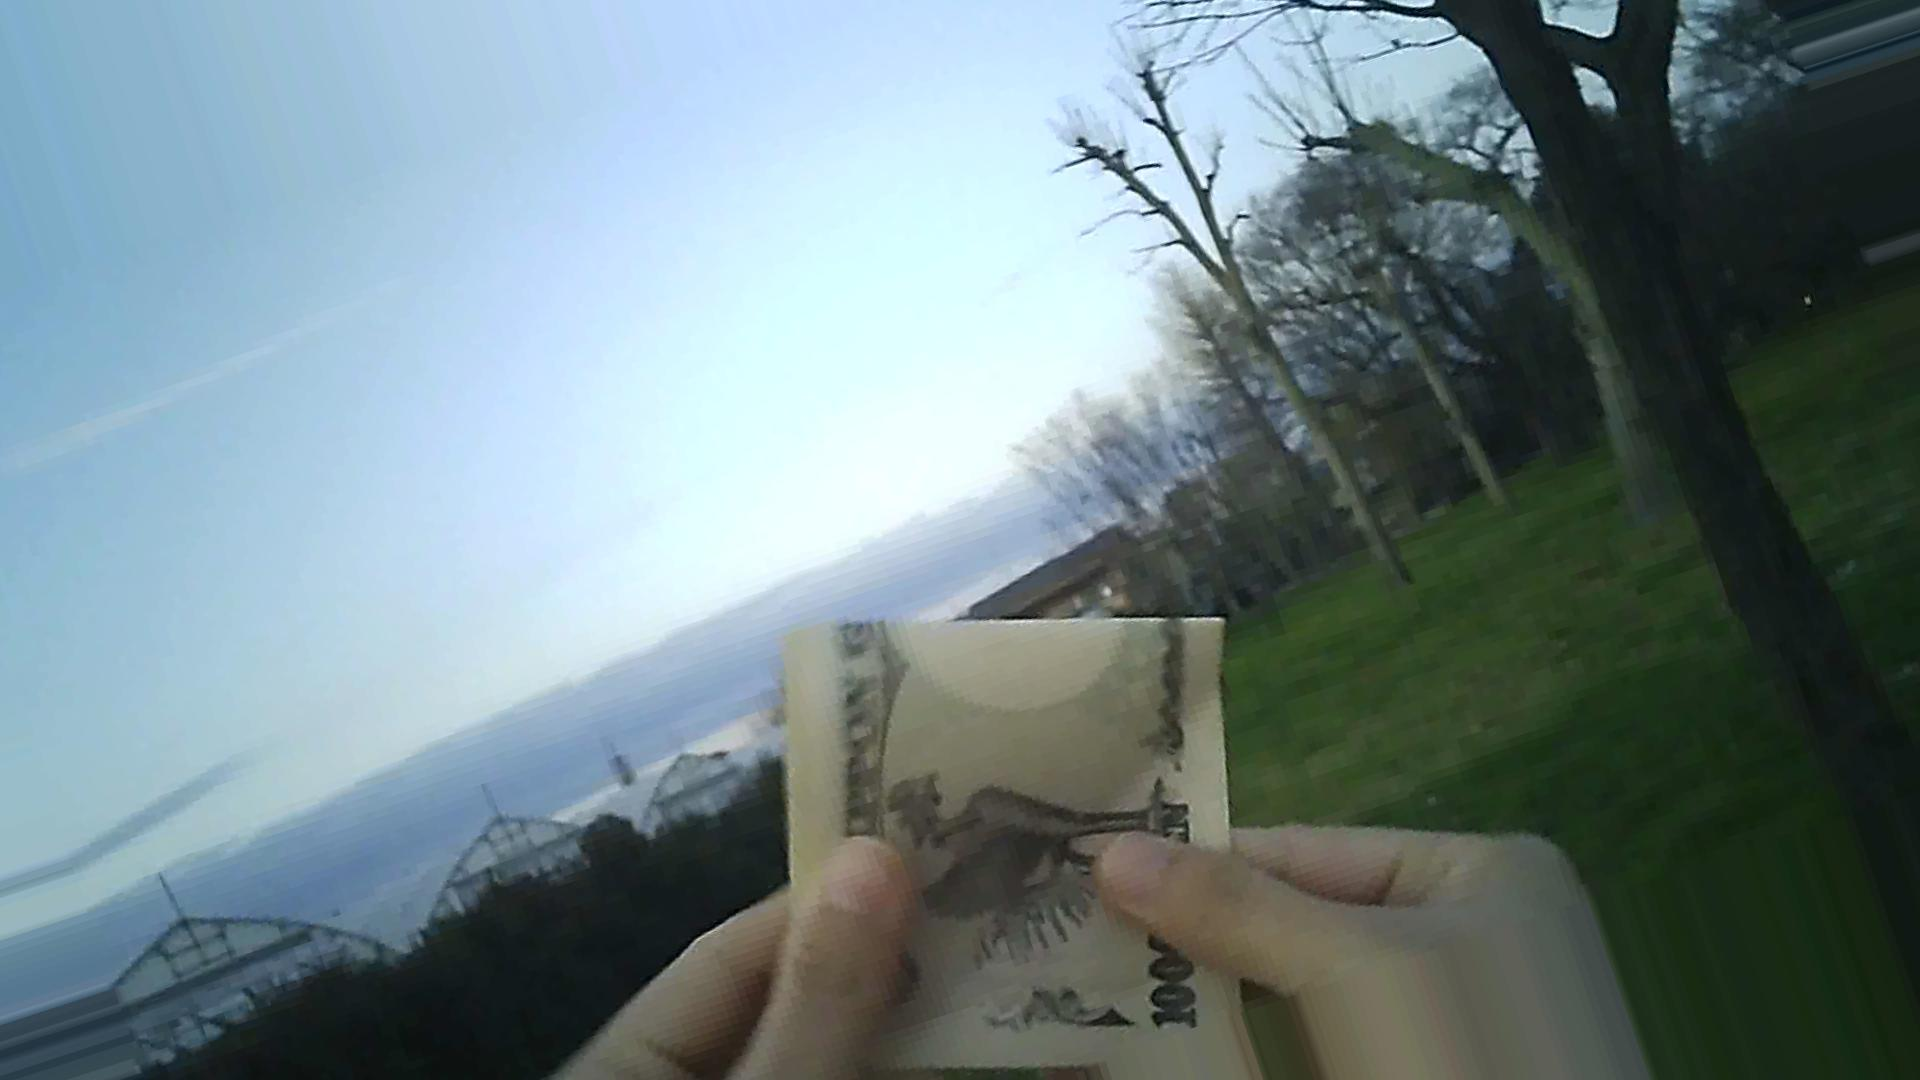10,000 Yen: (750, 605, 1273, 1065)
